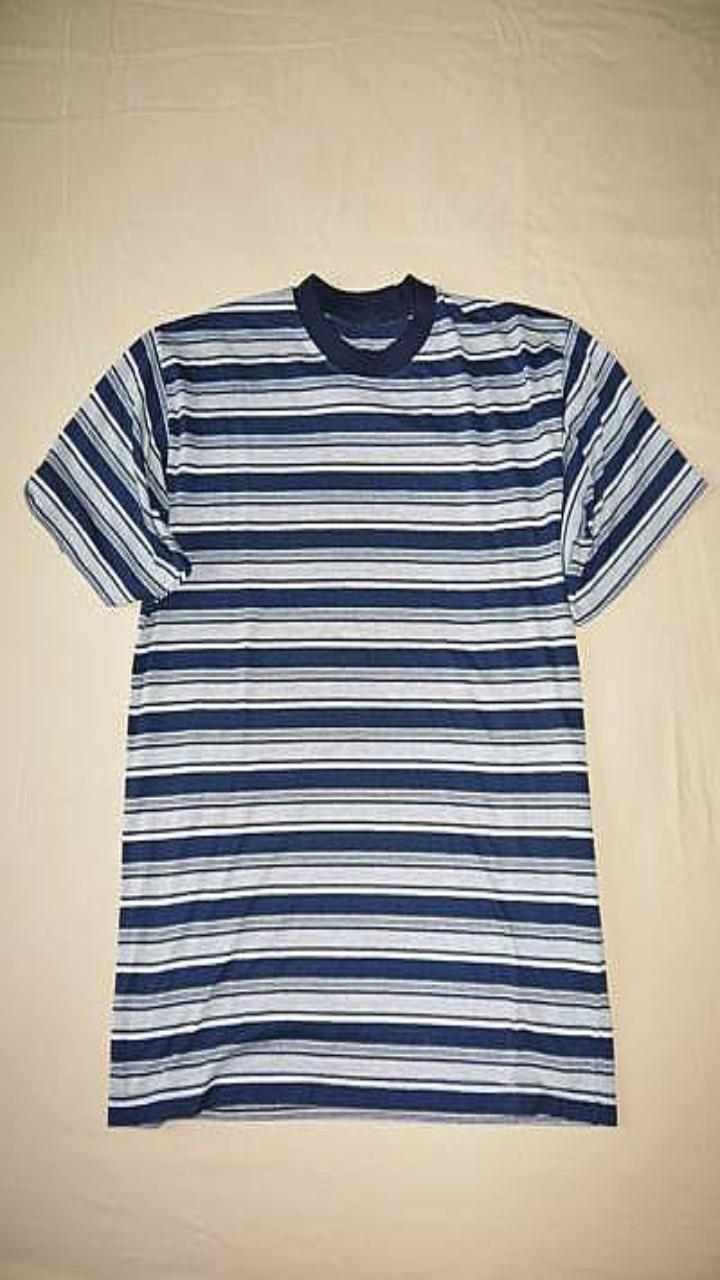T-Shirt: (24, 273, 707, 1125)
